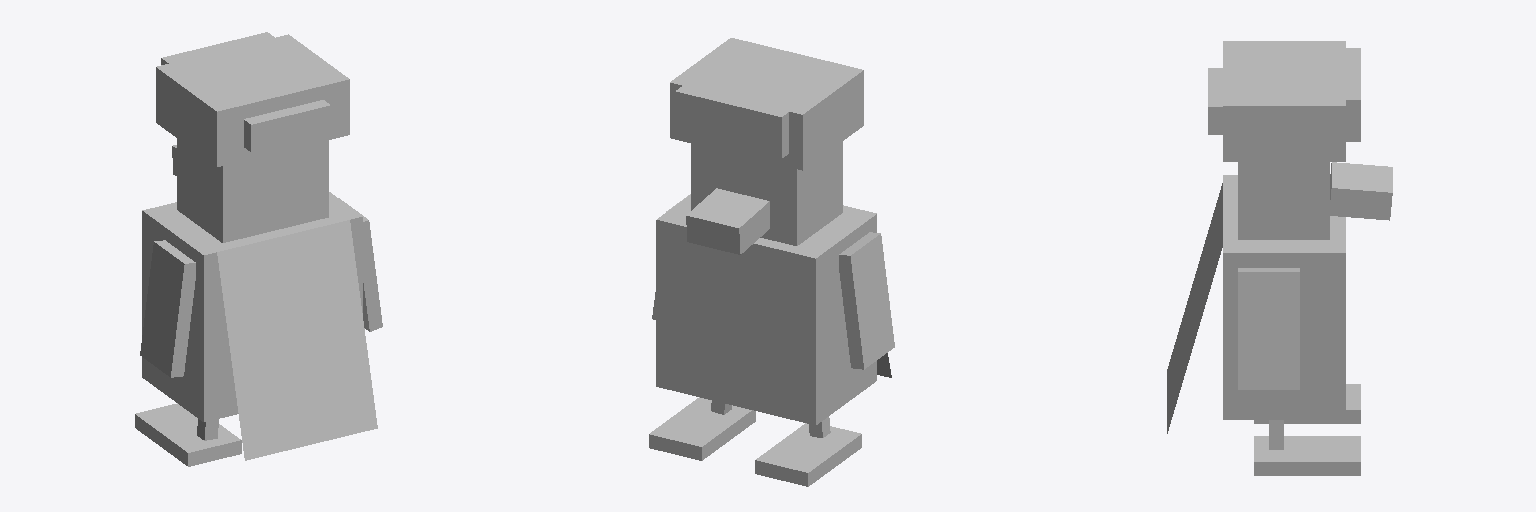
File: q_coin_gay.obj
3 renders of one model, left to right at view 1: azimuth 30°, elevation 25°; view 2: azimuth 150°, elevation 25°; view 3: azimuth 270°, elevation 25°, orthographic.
Visible parts, largest first — view 1: cloak, main, body, head, cube, puff, hat2, hat1; view 2: body, main, head, puff, cube, hat1, mouth; view 3: body, main, cube, head, puff, cloak, mouth, hat1, hat2.
Part boxes in pixels (x1,y1,x2,y2): cloak: (217,220,377,460); main: (156,34,349,166); body: (142,192,362,421); head: (177,139,328,242); cube: (140,198,382,377); puff: (135,403,241,466); hat2: (244,100,330,152); hat1: (161,32,274,64); body: (656,195,876,425); main: (670,38,863,170); head: (691,141,842,245); puff: (649,397,861,486); cube: (652,194,894,369); hat1: (675,86,788,158); mouth: (686,188,769,254); body: (1223,175,1345,419); main: (1223,41,1345,161); cube: (1238,268,1299,389); head: (1238,162,1329,239); puff: (1254,384,1360,475); cloak: (1167,183,1222,433); mouth: (1330,162,1392,220); hat1: (1346,48,1360,141); hat2: (1208,68,1222,134).
Size of the model in its own units: 0.9975 by 1.63 by 0.918.